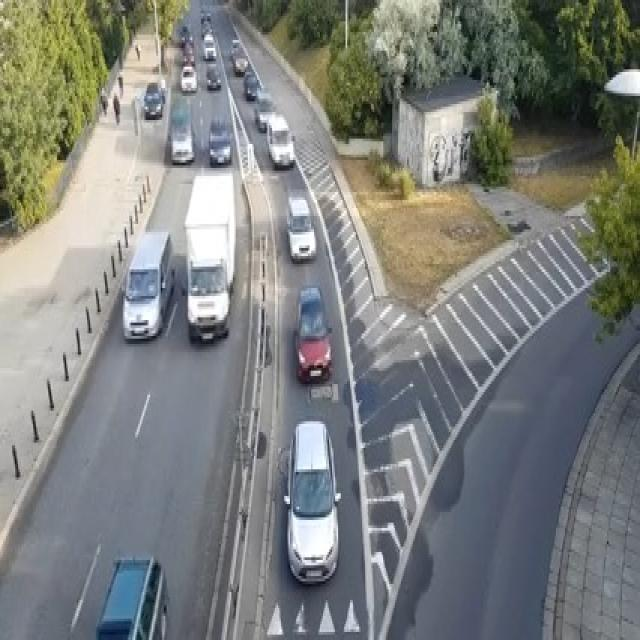bus: (183, 168, 236, 341)
car: (279, 419, 341, 584), (95, 555, 168, 637), (122, 230, 174, 342), (293, 283, 332, 381), (286, 195, 316, 261), (168, 99, 194, 162), (266, 112, 294, 168), (208, 118, 232, 166), (254, 90, 276, 130), (143, 80, 162, 117), (242, 69, 260, 99), (230, 45, 248, 75), (179, 64, 197, 91), (206, 64, 221, 88), (203, 32, 216, 59), (156, 75, 167, 104), (183, 48, 196, 67), (200, 19, 210, 37), (230, 37, 239, 56), (200, 11, 210, 21)
